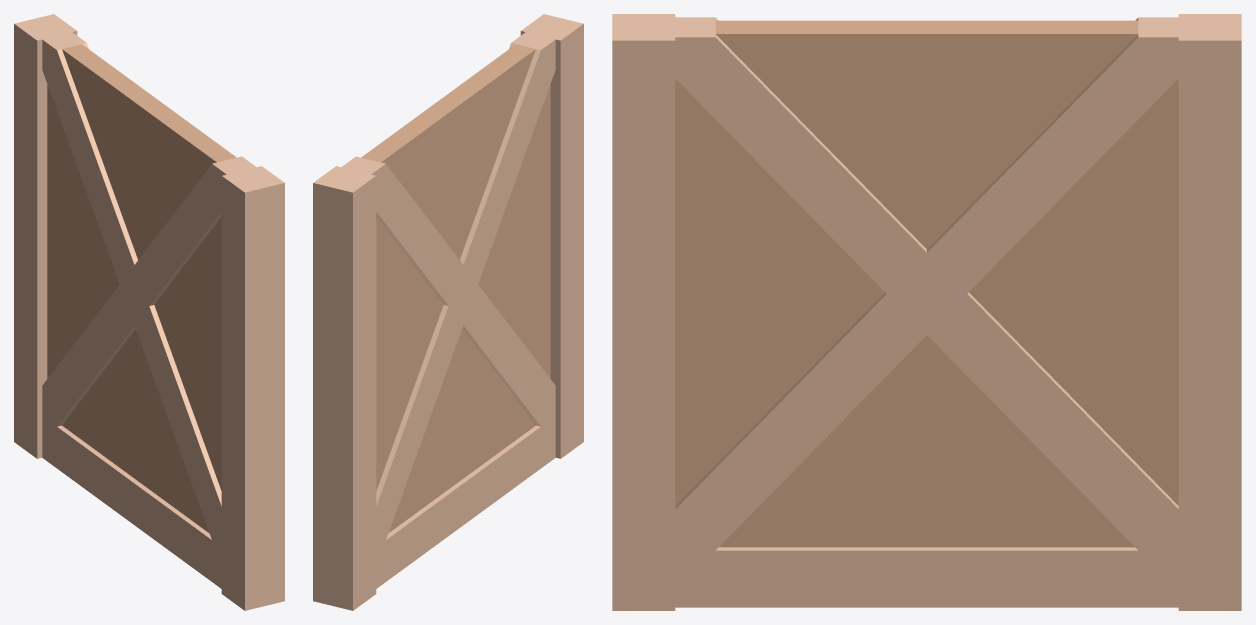
3 views of the same model, side by side, from view 1: azimuth 30°, elevation 25°; view 2: azimuth 150°, elevation 25°; view 3: azimuth 270°, elevation 25° (orthographic). The views are drawn at different scales.
Visible parts, largest first — view 1: wallWoodDetailCross; view 2: wallWoodDetailCross; view 3: wallWoodDetailCross.
Boxes of the visible parts, x1,y1,x2,y2 form: wallWoodDetailCross: (14,14,284,610); wallWoodDetailCross: (313,14,583,610); wallWoodDetailCross: (612,14,1241,610).
Bounding box in the file's own units: 0.1 × 1 × 1.
